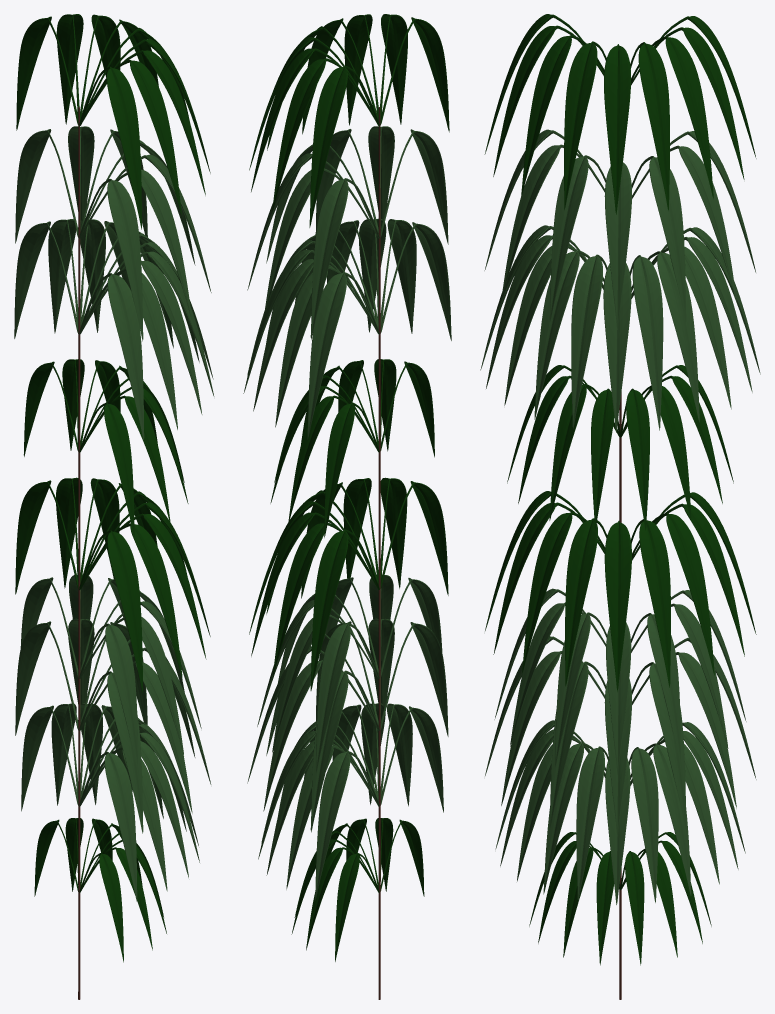
The model's file is plant1_half.fbx.
The picture shows the model from 3 angles, left to right: view 1: azimuth 30°, elevation 25°; view 2: azimuth 150°, elevation 25°; view 3: azimuth 270°, elevation 25°; orthographic projection. The views are drawn at different scales.
Parts seen in each view (by area): view 1: Circle.041, Circle.042, Circle.039, Circle.062, Circle.043, Circle.073, Circle.040, Circle.063, Circle.061, plant1_half; view 2: Circle.041, Circle.042, Circle.039, Circle.062, Circle.043, Circle.073, Circle.040, Circle.063, Circle.061, plant1_half; view 3: Circle.041, Circle.042, Circle.039, Circle.062, Circle.043, Circle.040, Circle.073, Circle.063, Circle.061, plant1_half.
Boxes of the visible parts, bbox=[...] form: Circle.041: bbox=[14, 219, 214, 440]; Circle.042: bbox=[16, 14, 210, 229]; Circle.039: bbox=[15, 477, 210, 692]; Circle.062: bbox=[21, 703, 199, 901]; Circle.043: bbox=[15, 126, 211, 341]; Circle.073: bbox=[15, 618, 211, 833]; Circle.040: bbox=[23, 359, 188, 538]; Circle.063: bbox=[20, 575, 201, 773]; Circle.061: bbox=[34, 818, 166, 962]; plant1_half: bbox=[78, 107, 80, 999]; Circle.041: bbox=[243, 218, 451, 439]; Circle.042: bbox=[249, 14, 449, 227]; Circle.039: bbox=[249, 477, 448, 690]; Circle.062: bbox=[258, 703, 443, 900]; Circle.043: bbox=[247, 126, 448, 339]; Circle.073: bbox=[247, 618, 448, 832]; Circle.040: bbox=[270, 359, 434, 537]; Circle.063: bbox=[257, 575, 442, 772]; Circle.061: bbox=[291, 818, 424, 961]; plant1_half: bbox=[378, 107, 380, 999]; Circle.041: bbox=[480, 225, 760, 432]; Circle.042: bbox=[484, 14, 756, 214]; Circle.039: bbox=[485, 491, 756, 691]; Circle.062: bbox=[495, 720, 745, 904]; Circle.043: bbox=[484, 129, 755, 329]; Circle.040: bbox=[507, 365, 733, 530]; Circle.073: bbox=[485, 636, 756, 836]; Circle.063: bbox=[494, 588, 746, 774]; Circle.061: bbox=[529, 832, 711, 965]; plant1_half: bbox=[619, 392, 621, 999].
Size of the model in its own units: 32.74 by 226 by 58.38.
